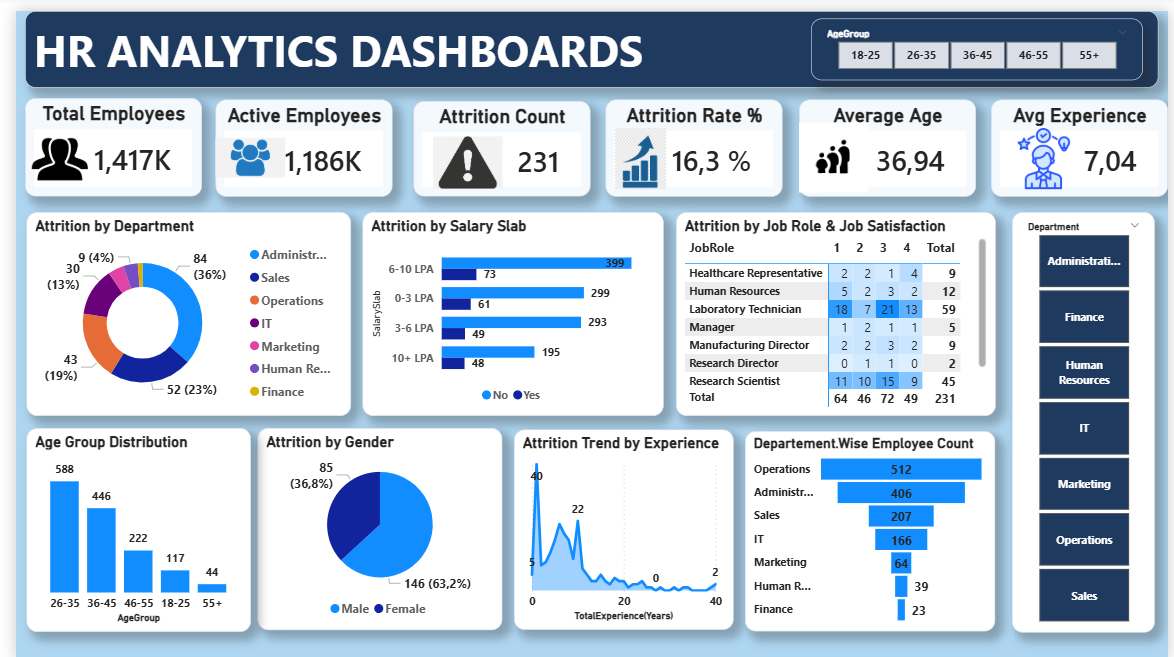

The page's visual inventory and layout, read from the dashboard file:
{"tool":"powerbi","page":{"name":"Page 1","canvas":[1280,720],"ordinal":0},"visuals":[{"type":"textbox","box":[10,0,1259,85],"z":0},{"type":"cardVisual","title":"Total Employees","fields":{"Data":["CountNonNull(HR_Analytics-4.EmpID)"]},"box":[9.4,96.4,196.5,109.6],"z":1000},{"type":"cardVisual","title":"Active Employees","fields":{"Data":["Sum(HR_Analytics-4.EmployeeCount)"]},"box":[221.1,98.3,196.5,107.7],"z":2000},{"type":"cardVisual","title":"Attrition Count","fields":{"Data":["Sum(HR_Analytics-4.Attrition Count)"]},"box":[442.2,100.2,196.5,105.8],"z":3000},{"type":"cardVisual","title":"Attrition Rate %","fields":{"Data":["HR_Analytics-4.Attrition Rate %"]},"box":[655.8,98.3,196.5,107.7],"z":4000},{"type":"cardVisual","title":"Average Age","fields":{"Data":["Avg(HR_Analytics-4.Age)"]},"box":[869.3,98.3,196.5,107.7],"z":5000},{"type":"cardVisual","title":"Avg Experience","fields":{"Data":["Avg(HR_Analytics-4.YearsatCompany)"]},"box":[1082.8,98.3,196.5,107.7],"z":6000},{"type":"image","box":[9.4,122.8,77.5,83.2],"z":7000},{"type":"image","box":[1103.6,130.4,77.5,68],"z":8000},{"type":"image","box":[869.3,120.9,77.5,83.2],"z":9000},{"type":"image","box":[655.8,130.4,77.5,68],"z":10000},{"type":"image","box":[463,126.6,77.5,83.2],"z":11000},{"type":"image","box":[221.1,120.9,77.5,83.2],"z":12000},{"type":"donutChart","title":"Attrition  by Department","fields":{"Category":["HR_Analytics-4.Department"],"Y":["Sum(HR_Analytics-4.Attrition Count)"]},"box":[11.3,223,360.9,226.8],"z":13000},{"type":"clusteredBarChart","title":"Attrition  by Salary Slab","fields":{"Category":["HR_Analytics-4.SalarySlab"],"Y":["CountNonNull(HR_Analytics-4.EmpID)"],"Series":["HR_Analytics-4.Attrition"]},"box":[385.5,223,334.5,226.8],"z":14000},{"type":"pivotTable","title":"Attrition  by Job Role & Job Satisfaction","fields":{"Rows":["HR_Analytics-4.JobRole"],"Values":["Sum(HR_Analytics-4.Attrition Count)"],"Columns":["HR_Analytics-4.JobSatisfaction"]},"box":[733.2,223,355.3,226.8],"z":15000},{"type":"pieChart","title":"Attrition  by Gender","fields":{"Series":["HR_Analytics-4.Attrition"],"Y":["Sum(HR_Analytics-4.Attrition Count)"],"Category":["HR_Analytics-4.Gender"]},"box":[268.3,463,272.1,224.9],"z":16000},{"type":"columnChart","title":"Age Group Distribution","fields":{"Category":["HR_Analytics-4.AgeGroup"],"Y":["Sum(HR_Analytics-4.EmployeeCount)"]},"box":[11.3,463,249.5,226.8],"z":17000},{"type":"areaChart","title":"Attrition Trend by Experience","fields":{"Category":["HR_Analytics-4.TotalExperience(Years)"],"Y2":["Sum(HR_Analytics-4.Attrition Count)"]},"box":[553.7,464.9,243.8,223],"z":18000},{"type":"funnel","title":"Departement.Wise Employee Count","fields":{"Category":["HR_Analytics-4.Department"],"Y":["CountNonNull(HR_Analytics-4.EmpID)"]},"box":[810.7,466.8,277.8,223],"z":19000},{"type":"slicer","fields":{"Values":["HR_Analytics-4.Department"]},"box":[1107,223,158.7,467],"z":20000},{"type":"slicer","fields":{"Values":["HR_Analytics-4.AgeGroup"]},"box":[883.3,8.3,368.3,68.3],"z":21000}]}

Visuals, with their boxes in screenshot pixels (x1, y1, x2, y2), scaled from the page's 1280x720 canvas onto the 1174x657 screenshot:
textbox: 9 0 1164 78
"Total Employees" cardVisual: 9 88 189 188
"Active Employees" cardVisual: 203 90 383 188
"Attrition Count" cardVisual: 406 91 586 188
"Attrition Rate %" cardVisual: 601 90 782 188
"Average Age" cardVisual: 797 90 978 188
"Avg Experience" cardVisual: 993 90 1173 188
image: 9 112 80 188
image: 1012 119 1083 181
image: 797 110 868 186
image: 601 119 673 181
image: 425 116 496 191
image: 203 110 274 186
"Attrition  by Department" donutChart: 10 203 341 410
"Attrition  by Salary Slab" clusteredBarChart: 354 203 660 410
"Attrition  by Job Role & Job Satisfaction" pivotTable: 672 203 998 410
"Attrition  by Gender" pieChart: 246 422 496 628
"Age Group Distribution" columnChart: 10 422 239 629
"Attrition Trend by Experience" areaChart: 508 424 731 628
"Departement.Wise Employee Count" funnel: 744 426 998 629
slicer - HR_Analytics-4.Department: 1015 203 1161 630
slicer - HR_Analytics-4.AgeGroup: 810 8 1148 70
